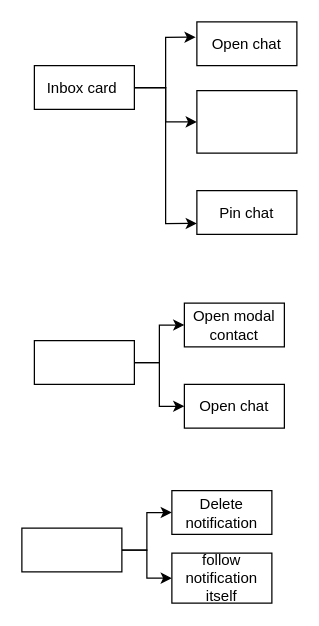
Some shapes in this 319 by 626 pixel diagram are drawn without their labels. Each missing label, with the centre of its shape:
"Contact card" goes at (x=83, y=361).
"Notification card" goes at (x=71, y=549).
"On selecting see last message" goes at (x=246, y=121).
